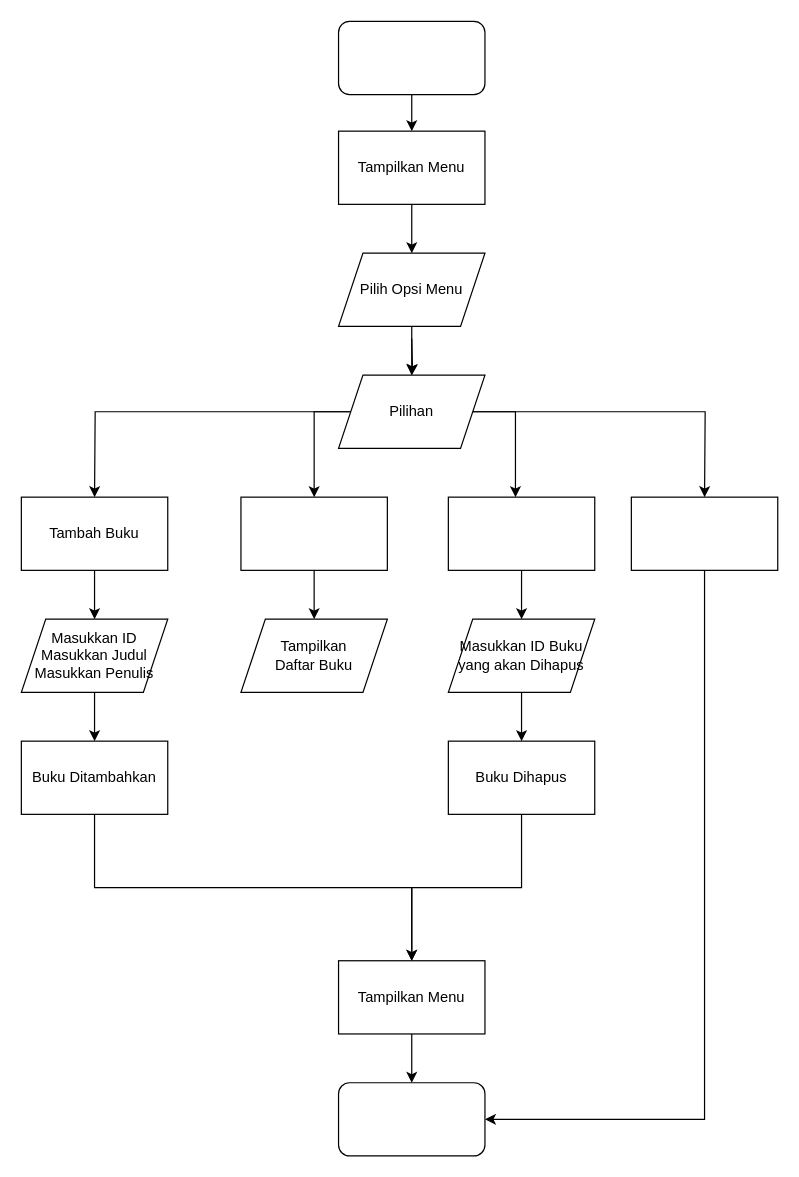
The diagram is 799 pixels wide and 1177 high, and some of its shapes have lost their labels. The shapes that lost their labels are listed below. From the top down, each one's centre as x and y in pixels, then its label:
At (x=411, y=57): "Mulai".
At (x=313, y=533): "Lihat Buku".
At (x=521, y=533): "Hapus Buku".
At (x=704, y=533): "Keluar".
At (x=411, y=1119): "Program Berakhir".
